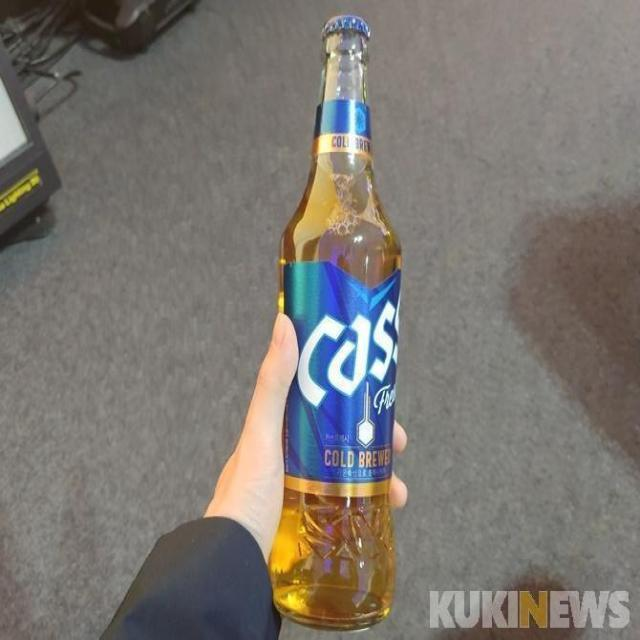beer-bottle: (274, 39, 406, 624)
